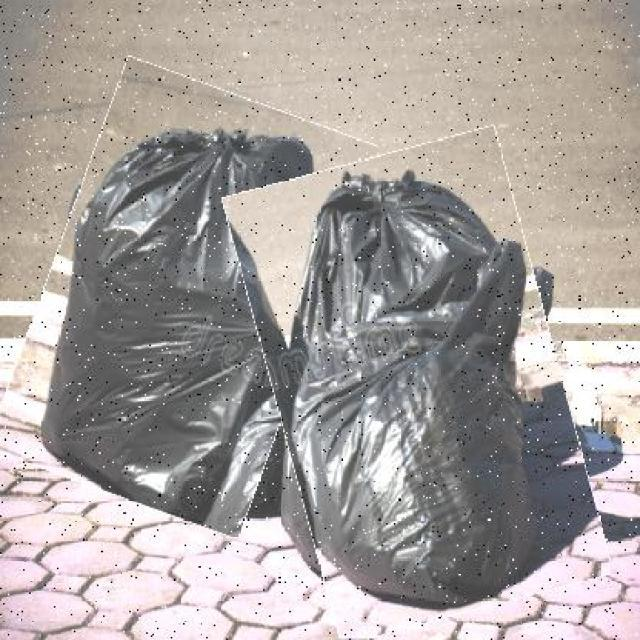waste: (250, 139, 586, 632), (18, 72, 348, 523)
